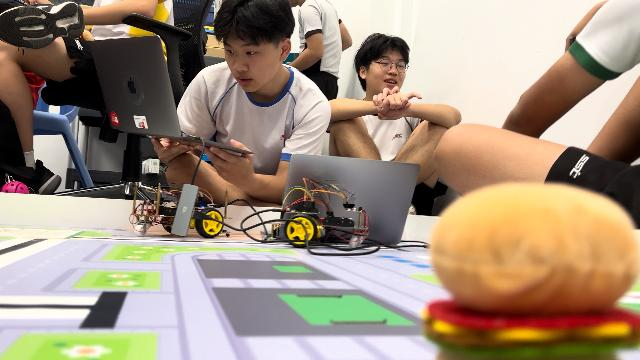burger: (422, 180, 640, 360)
